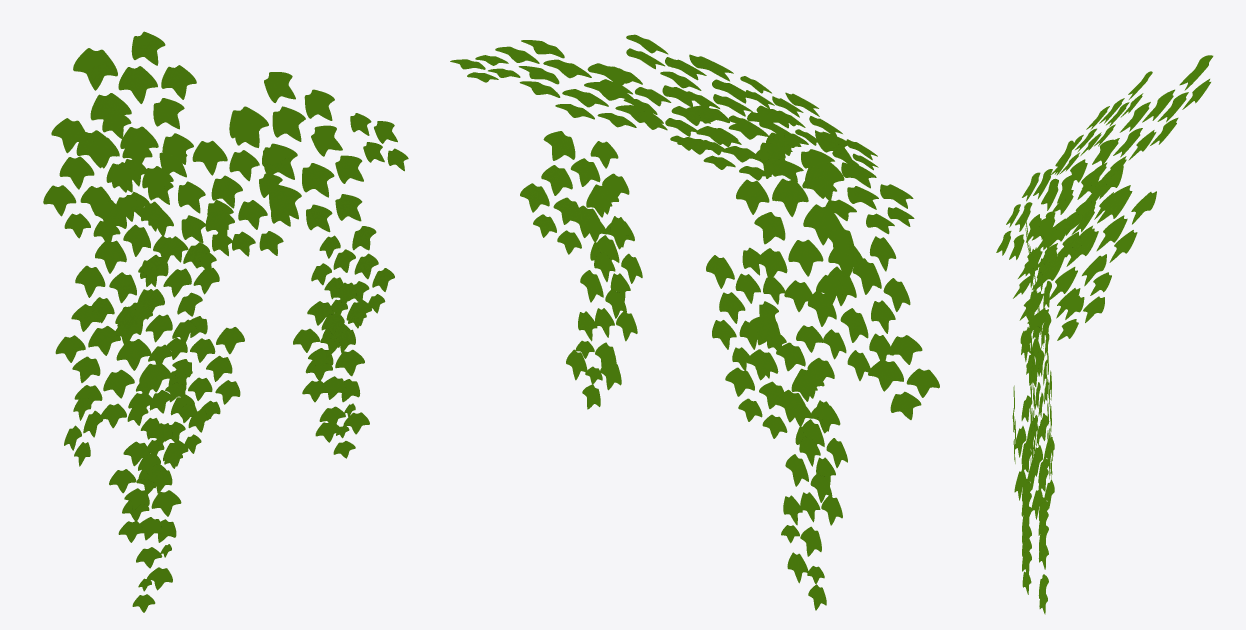
File: Prop_Vine5.gltf
The picture shows the model from 3 angles, left to right: view 1: azimuth 30°, elevation 25°; view 2: azimuth 150°, elevation 25°; view 3: azimuth 270°, elevation 25°; orthographic projection. The views are drawn at different scales.
Visible parts, largest first — view 1: Prop_Vine5; view 2: Prop_Vine5; view 3: Prop_Vine5.
Part boxes in pixels (x1=…): Prop_Vine5: x1=43, y1=31, x2=408, y2=612; Prop_Vine5: x1=450, y1=34, x2=939, y2=610; Prop_Vine5: x1=996, y1=55, x2=1213, y2=614.
Bounding box in the file's own units: 2.3 × 2.99 × 1.13.
Materials: 1 (1 with a texture image).
